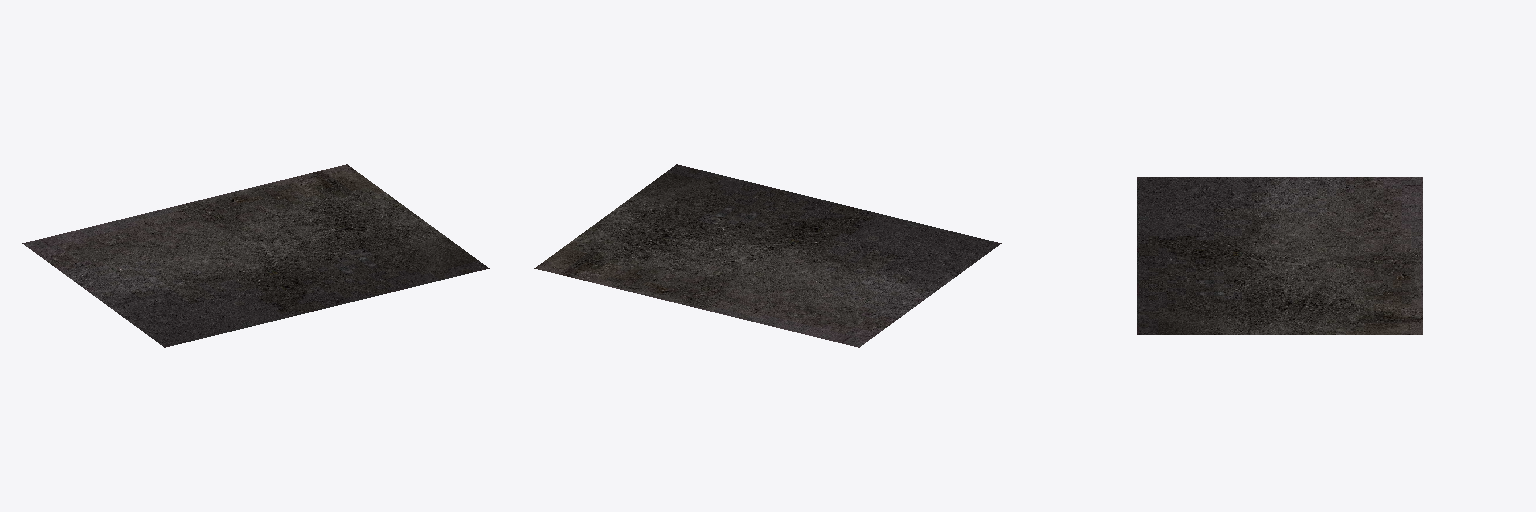
3 views of the same model, side by side, from view 1: azimuth 30°, elevation 25°; view 2: azimuth 150°, elevation 25°; view 3: azimuth 270°, elevation 25° (orthographic).
Bounding box in the file's own units: 5.33 × 0 × 4.05.
1 materials, 1 textured.